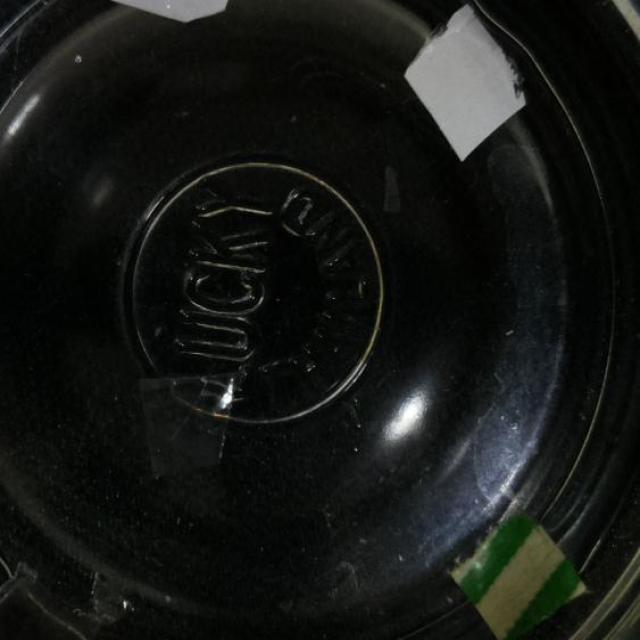fiber: (445, 494, 590, 640), (402, 6, 530, 162), (137, 371, 240, 481), (115, 0, 234, 28), (380, 167, 400, 212)
